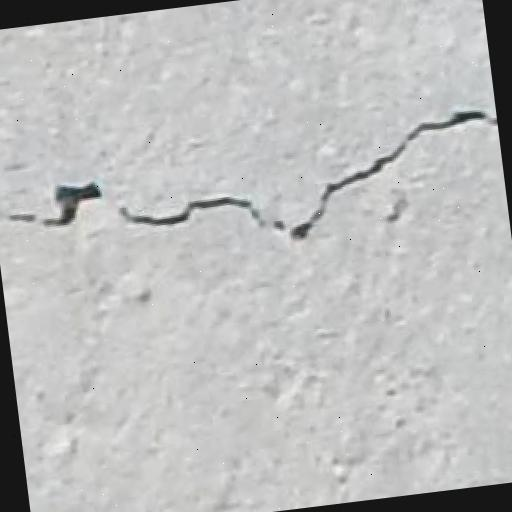spalling: (0, 83, 493, 261)
